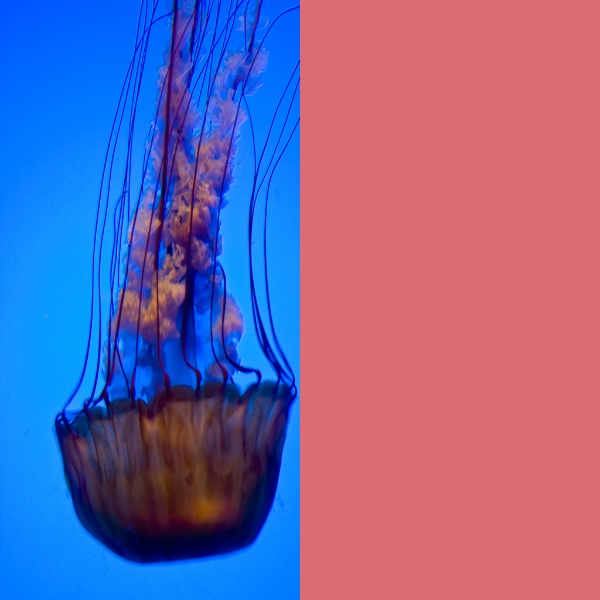Jellyfish: (52, 0, 300, 565)
